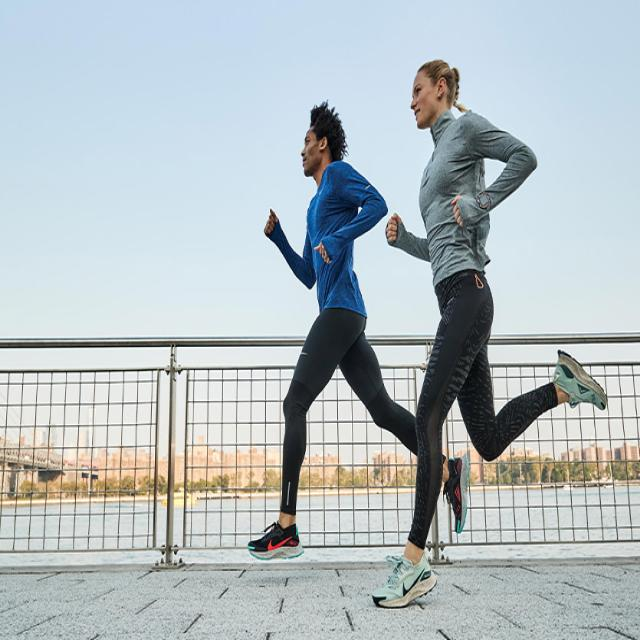running: (386, 57, 612, 603), (245, 98, 388, 565)
